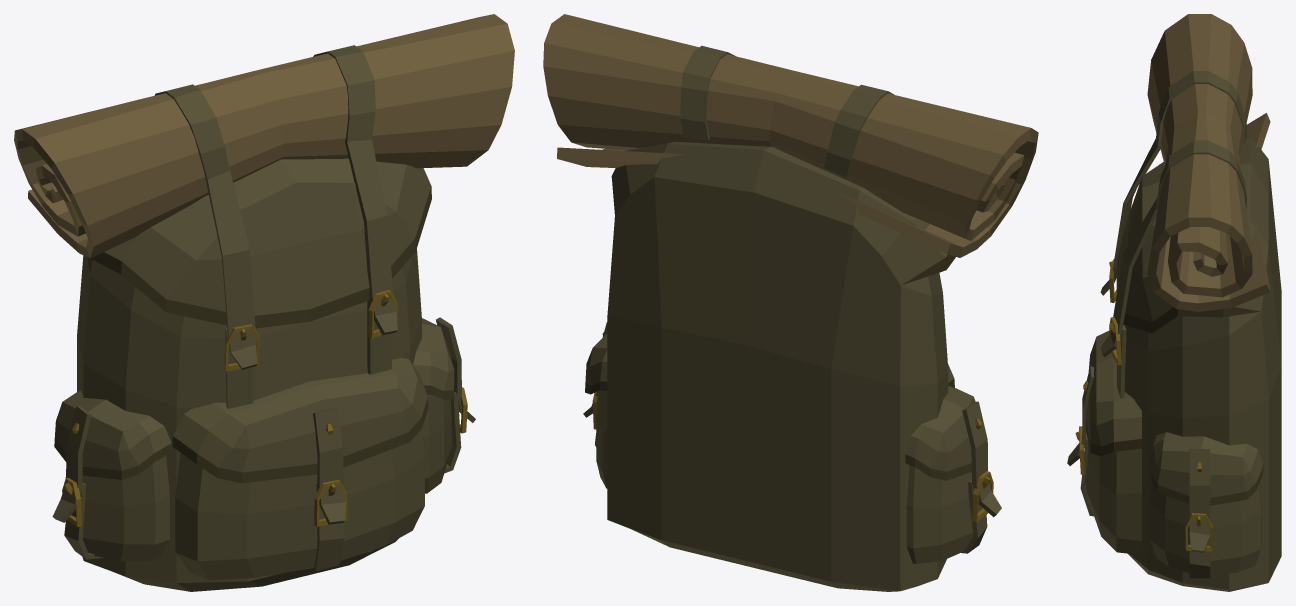
File: backpack-quaternius-rolltop-blue.glb
3 views of the same model, side by side, from view 1: azimuth 30°, elevation 25°; view 2: azimuth 150°, elevation 25°; view 3: azimuth 270°, elevation 25° (orthographic). The views are drawn at different scales.
Visible parts, largest first — view 1: Backpack; view 2: Backpack; view 3: Backpack.
Part boxes in pixels (x1,y1,x2,y2): Backpack: (14,14,514,591); Backpack: (543,14,1038,591); Backpack: (1067,14,1281,591).
Bounding box in the file's own units: 3.61 × 3.49 × 1.61.
